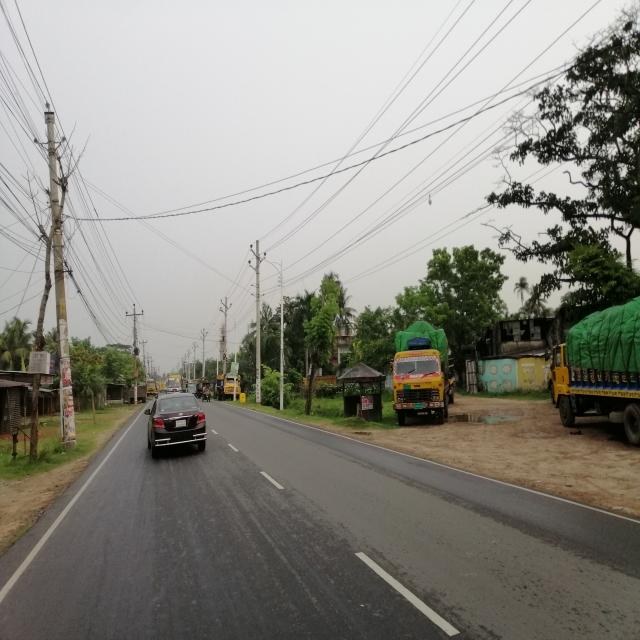Car: (130, 379, 216, 465)
Truck: (389, 318, 461, 436)
